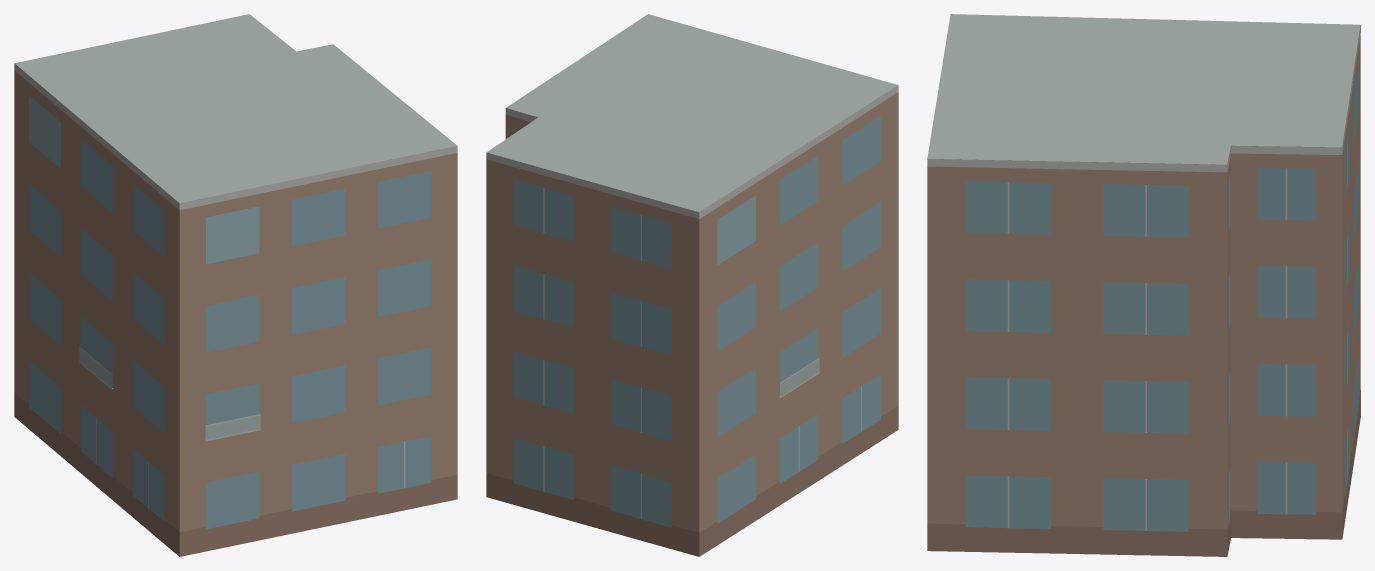
File: survey-upis-32466016.glb
3 renders of one model, left to right at view 1: azimuth 30°, elevation 25°; view 2: azimuth 150°, elevation 25°; view 3: azimuth 270°, elevation 25°, orthographic. The views are drawn at different scales.
Parts seen in each view (by area): view 1: survey-upis-32466016.tmp; view 2: survey-upis-32466016.tmp; view 3: survey-upis-32466016.tmp.
Boxes of the visible parts, left/top/right/bottom form: survey-upis-32466016.tmp: left=14, top=14, right=457, bottom=556; survey-upis-32466016.tmp: left=486, top=14, right=898, bottom=556; survey-upis-32466016.tmp: left=927, top=14, right=1360, bottom=556.
Size of the model in its own units: 10.17 by 12.33 by 12.36.
